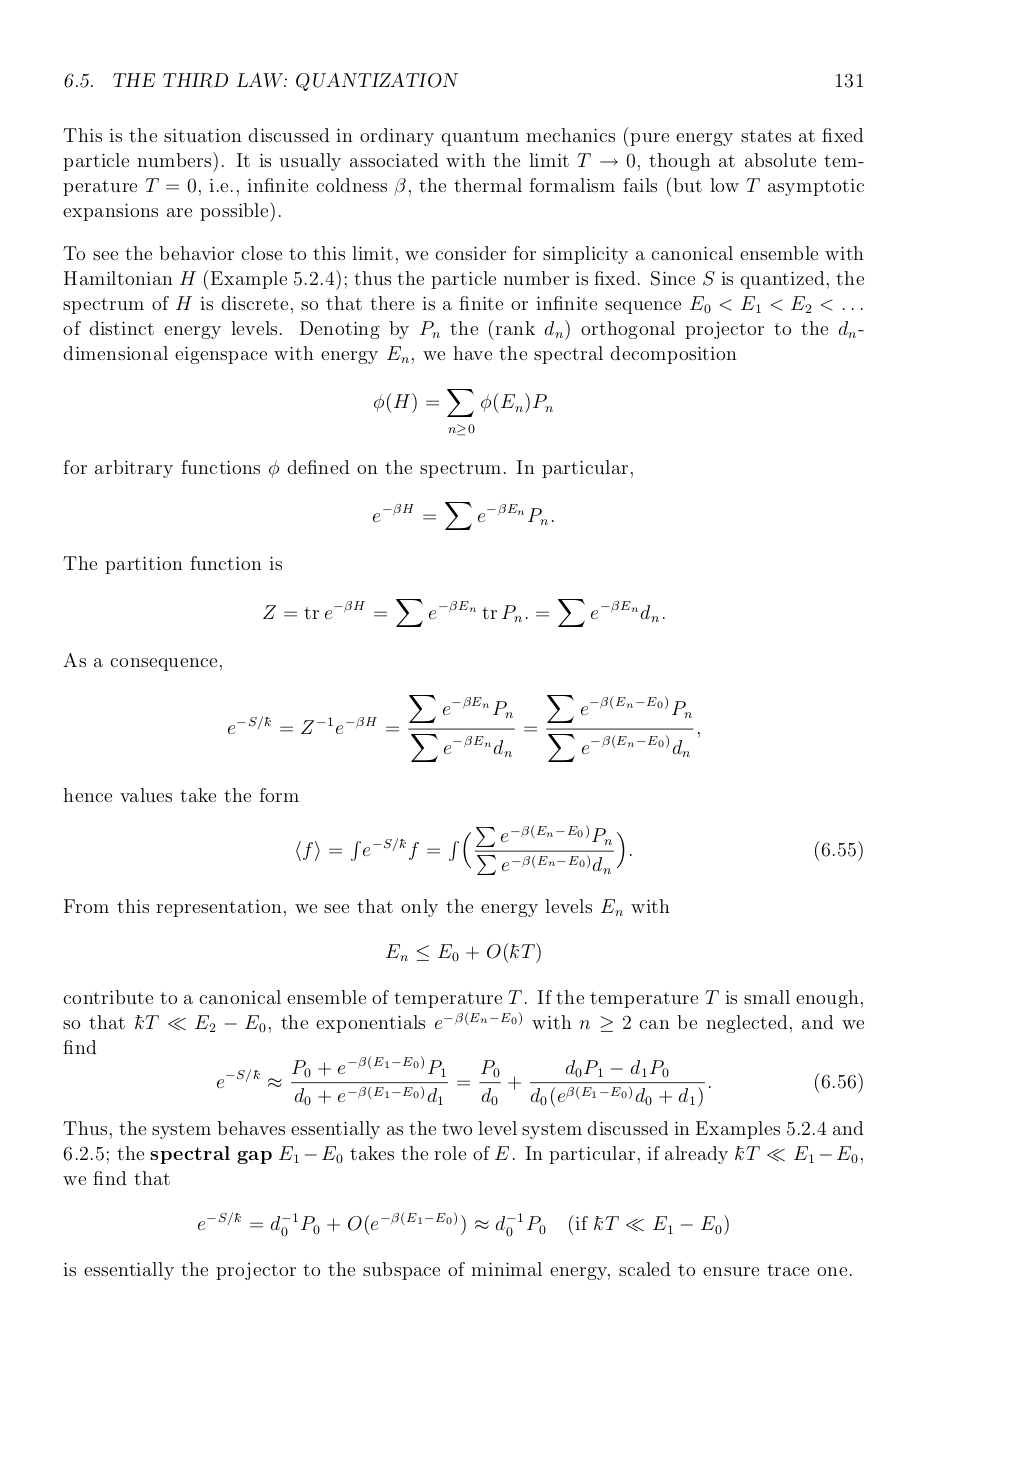formula: (216, 1056, 863, 1107), (227, 694, 698, 762), (296, 824, 863, 875), (197, 1211, 728, 1237), (263, 598, 664, 627), (374, 389, 552, 435), (372, 501, 553, 530), (386, 943, 540, 963)
